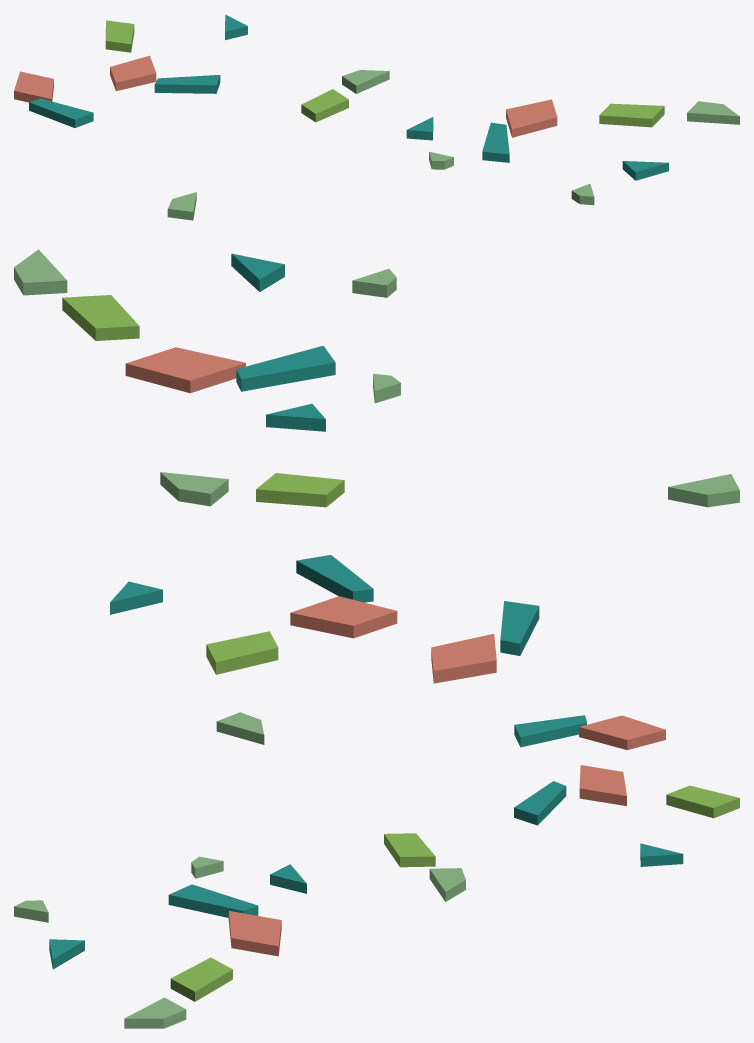
File: Art_Confetti_03.glb
The picture shows the model from 3 angles, top to bottom: view 1: azimuth 30°, elevation 25°; view 2: azimuth 150°, elevation 25°; view 3: azimuth 270°, elevation 25°; orthographic projection. The views are drawn at different scales.
Parts seen in each view (by area): view 1: Art_Confetti_03; view 2: Art_Confetti_03; view 3: Art_Confetti_03.
Boxes of the visible parts, x1=… form: Art_Confetti_03: x1=14, y1=14, x2=739, y2=220; Art_Confetti_03: x1=14, y1=249, x2=739, y2=683; Art_Confetti_03: x1=14, y1=712, x2=739, y2=1028.
Bounding box in the file's own units: 12.99 × 0.201 × 13.01.
1 material, 1 textured.
